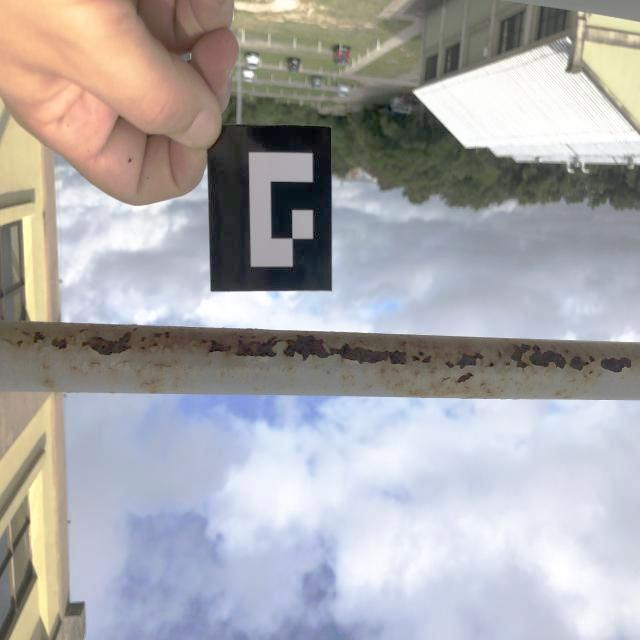Corrosion: (22, 323, 640, 395)
